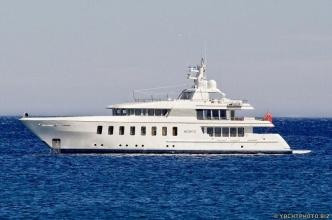yacht: (16, 66, 305, 154)
